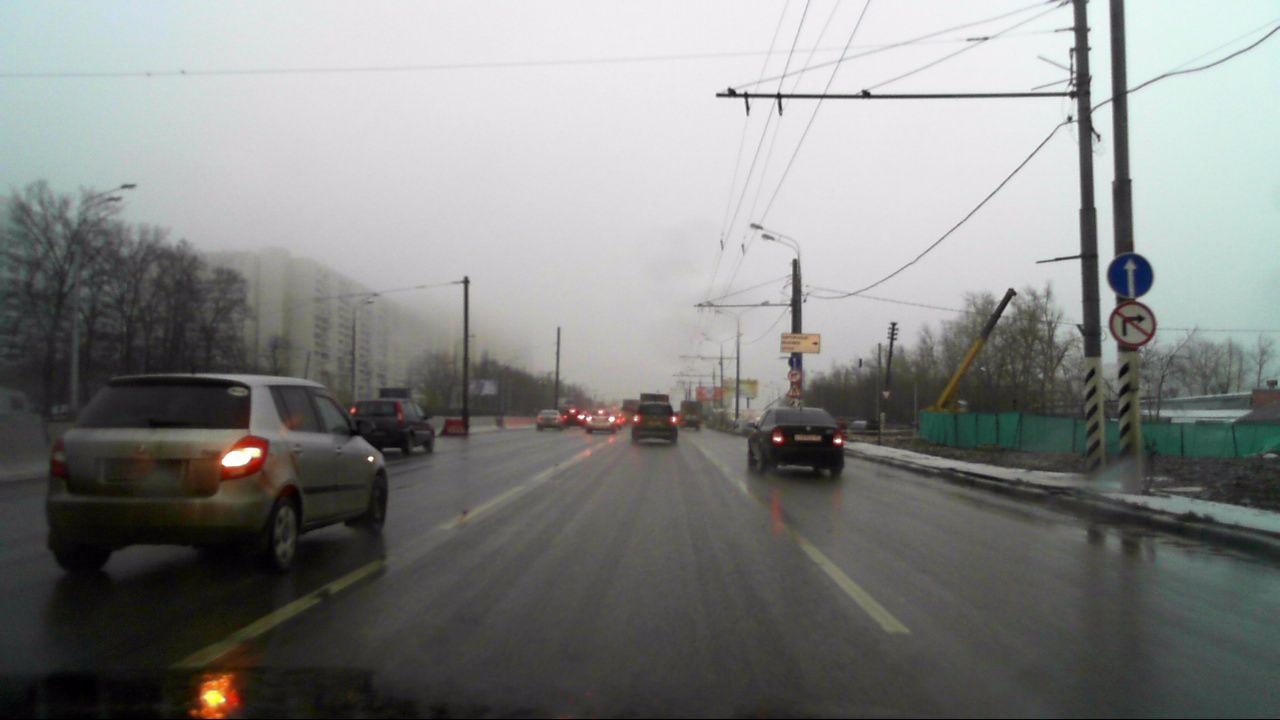1_20_2: (786, 382, 802, 398)
2_4: (882, 389, 892, 399)
3_18_1: (1109, 300, 1156, 348), (787, 369, 801, 381)
4_1_1: (1105, 249, 1155, 301), (788, 355, 803, 368)
